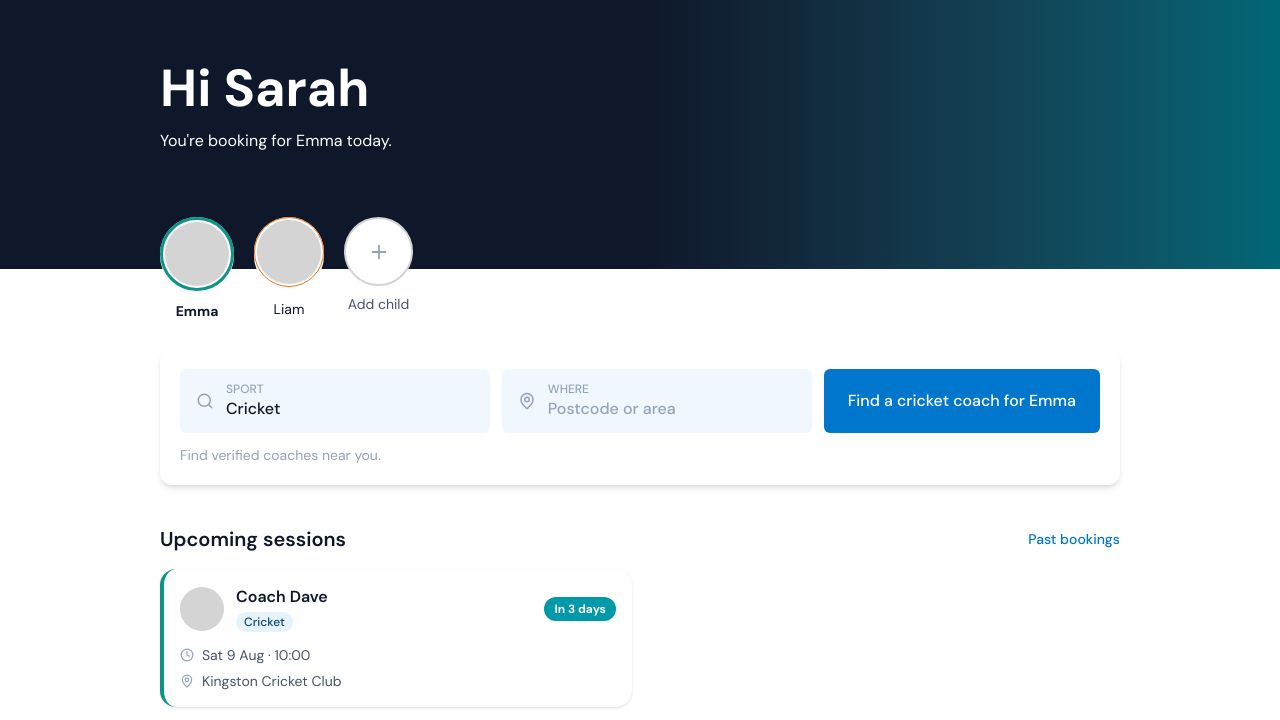
Test: ParentDashboardClient › switching the active child updates subline, CTA and sessions
Expected: the element with test id "session-card" shows "Coach Dave", [236,586,328,607]
Step 1. Click the button with test id "child-bubble-c2" → click(289, 268), box [254,217,324,319]
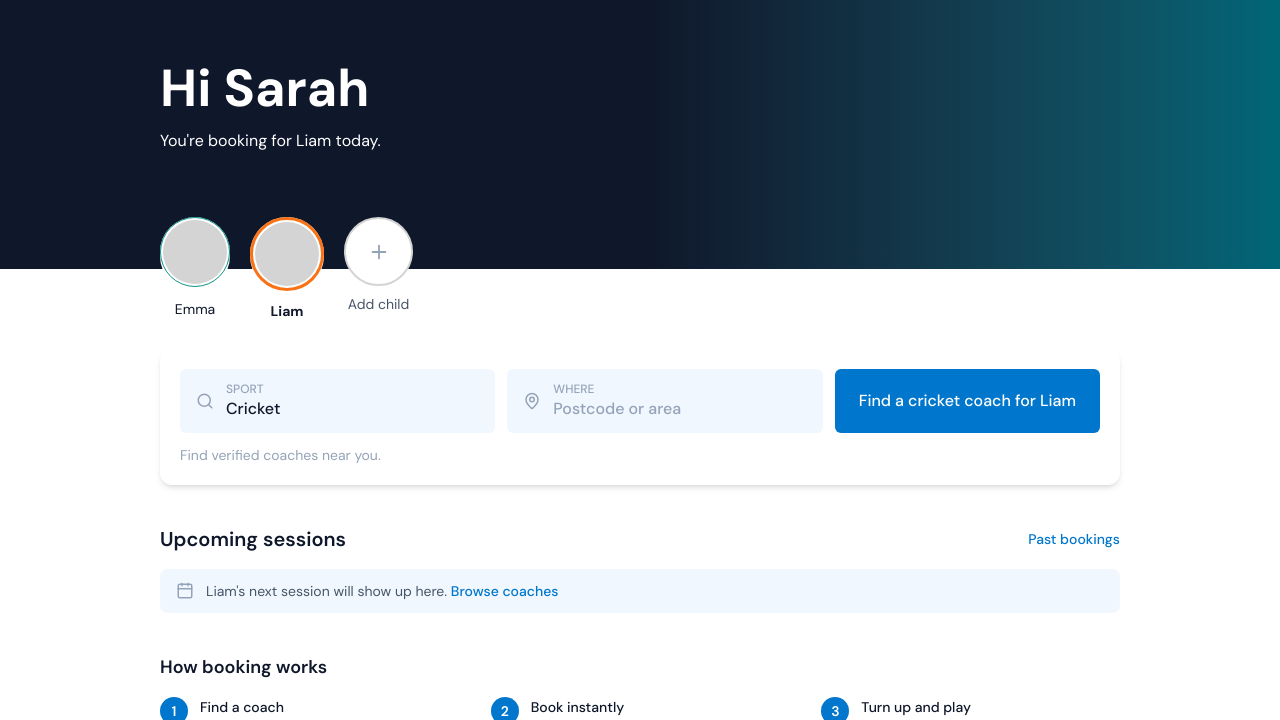
Result: the text with test id "hero-subline" reads "You're booking for Liam today." at [160,130,380,151]
Result: the button with test id "search-cta" reads "Find a cricket coach for Liam" at [835,369,1100,433]
Result: the element with test id "session-card" is gone
